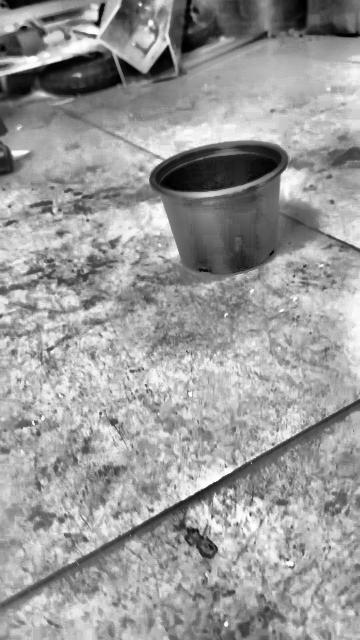pot: (149, 141, 286, 274)
